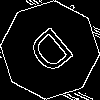D: (25, 25, 83, 83)
